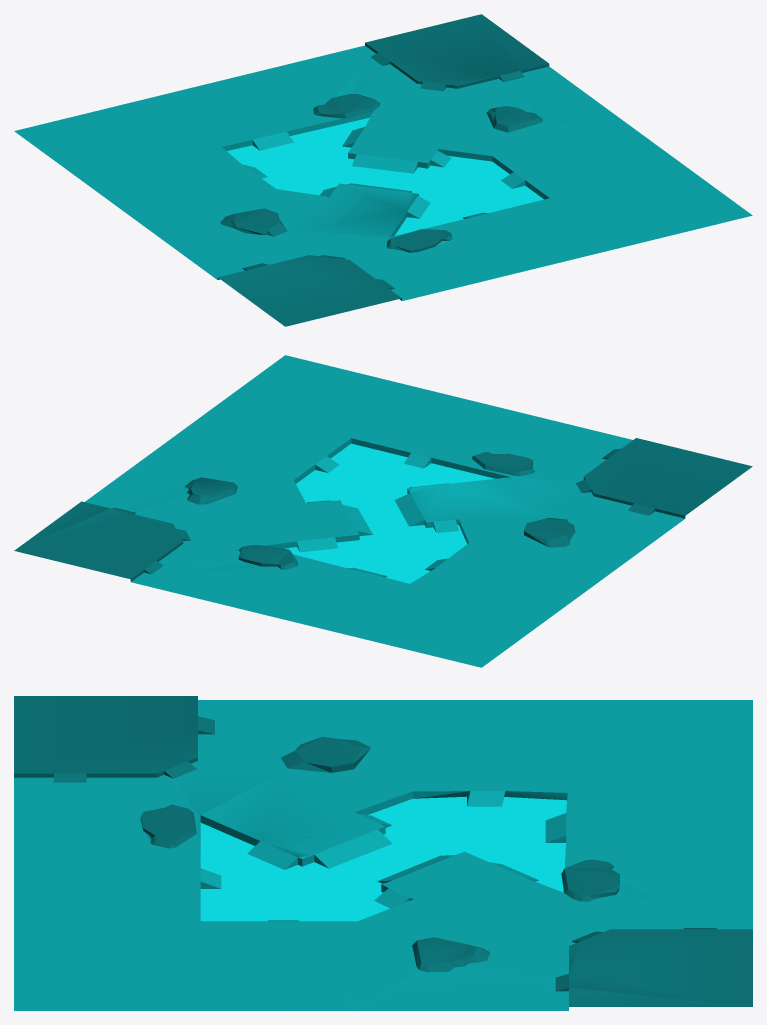
Rendered from Amobus_plain4.fbx.
The picture shows the model from 3 angles, top to bottom: view 1: azimuth 30°, elevation 25°; view 2: azimuth 150°, elevation 25°; view 3: azimuth 270°, elevation 25°; orthographic projection. The views are drawn at different scales.
Parts seen in each view (by area): view 1: Amobus_plainNEWWW; view 2: Amobus_plainNEWWW; view 3: Amobus_plainNEWWW.
Part boxes in pixels (<box>): Amobus_plainNEWWW: <box>14,14,752,326</box>; Amobus_plainNEWWW: <box>14,355,752,667</box>; Amobus_plainNEWWW: <box>14,696,752,1010</box>.
Bounding box in the file's own units: 4036 × 84.55 × 4055.
